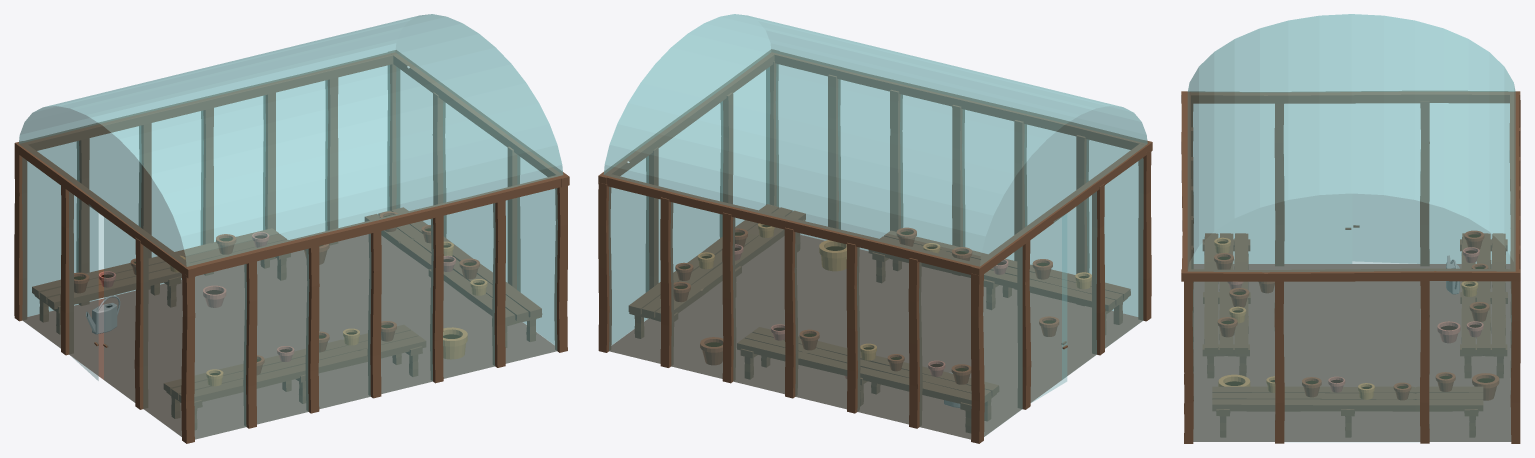
File: serre.glb
3 views of the same model, side by side, from view 1: azimuth 30°, elevation 25°; view 2: azimuth 150°, elevation 25°; view 3: azimuth 270°, elevation 25° (orthographic). The views are drawn at different scales.
Parts seen in each view (by area): view 1: Plane.006, Cube.006, Cube.002, Cube.001, Cube.005, arrosoir, Cube.007, Cylinder.011; view 2: Plane.006, Cube.002, Cube.006, Cube.001, Cube.007, Cube.005, Cylinder.011, Cylinder; view 3: Plane.006, Cube.001, Cube.002, Cube.006, Cylinder, Cube.003, Cylinder.022, Cylinder.011, Cube.005.
Boxes of the visible parts, box(x1,y1,x2,y2) form: Plane.006: box(14, 14, 569, 443); Cube.006: box(163, 325, 426, 408); Cube.002: box(32, 228, 290, 312); Cube.001: box(364, 207, 542, 326); Cube.005: box(39, 258, 286, 334); arrosoir: box(86, 295, 120, 334); Cube.007: box(171, 353, 418, 430); Cylinder.011: box(443, 327, 467, 359); Plane.006: box(598, 14, 1152, 443); Cube.002: box(737, 327, 999, 411); Cube.006: box(868, 230, 1130, 314); Cube.001: box(628, 204, 805, 321); Cube.007: box(876, 259, 1122, 335); Cube.005: box(744, 356, 991, 433); Cylinder.011: box(819, 240, 846, 271); Cylinder: box(700, 337, 723, 365); Plane.006: box(1181, 14, 1520, 443); Cube.001: box(1212, 386, 1483, 416); Cube.002: box(1460, 233, 1507, 356); Cube.006: box(1202, 233, 1250, 356); Cylinder: box(1472, 373, 1499, 400); Cube.003: box(1220, 416, 1475, 437); Cylinder.022: box(1437, 321, 1460, 343); Cylinder.011: box(1218, 374, 1250, 386); Cube.005: box(1464, 356, 1503, 378).
Size of the model in its own units: 13.39 by 8.49 by 10.47.
